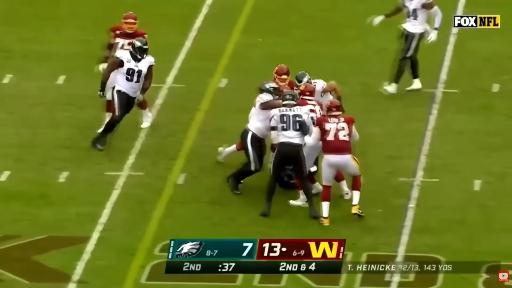Helmet: (130, 37, 149, 62), (259, 82, 282, 97), (122, 12, 138, 32), (274, 65, 290, 85), (326, 100, 342, 115), (282, 91, 298, 106), (299, 84, 315, 99), (296, 71, 311, 86)
Jersey: (114, 51, 154, 97), (271, 107, 313, 144), (317, 116, 354, 154), (247, 94, 273, 138), (402, 0, 432, 33), (110, 26, 147, 50), (297, 98, 322, 124), (312, 80, 333, 106), (285, 80, 295, 90)
Player: (306, 100, 363, 225), (92, 38, 154, 150), (261, 91, 313, 216), (373, 0, 442, 93), (227, 82, 282, 194), (99, 13, 147, 71), (296, 71, 341, 109), (304, 142, 322, 193), (273, 65, 295, 90), (274, 65, 295, 90)
